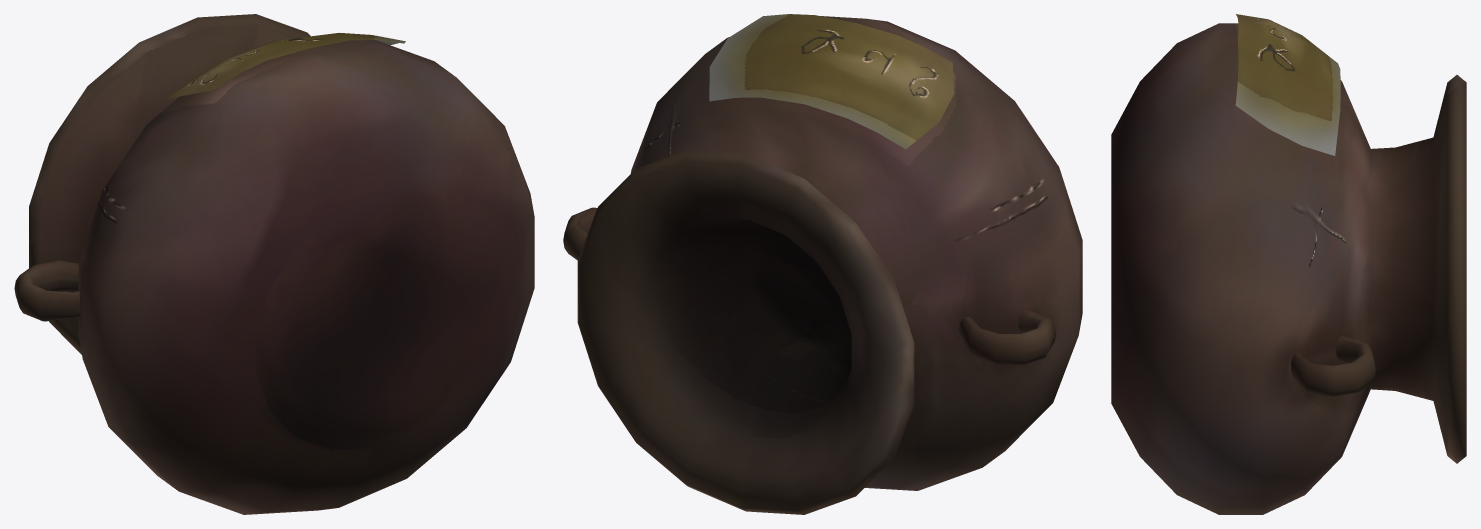
The model's file is Cauldron_ver1.fbx.
3 views of the same model, side by side, from view 1: azimuth 30°, elevation 25°; view 2: azimuth 150°, elevation 25°; view 3: azimuth 270°, elevation 25° (orthographic).
Parts seen in each view (by area): view 1: Plane; view 2: Plane; view 3: Plane.
Part boxes in pixels (x1,y1,x2,y2): Plane: (14, 14, 534, 514); Plane: (563, 14, 1082, 514); Plane: (1111, 14, 1466, 514).
Bounding box in the file's own units: 221 × 199 × 143.
